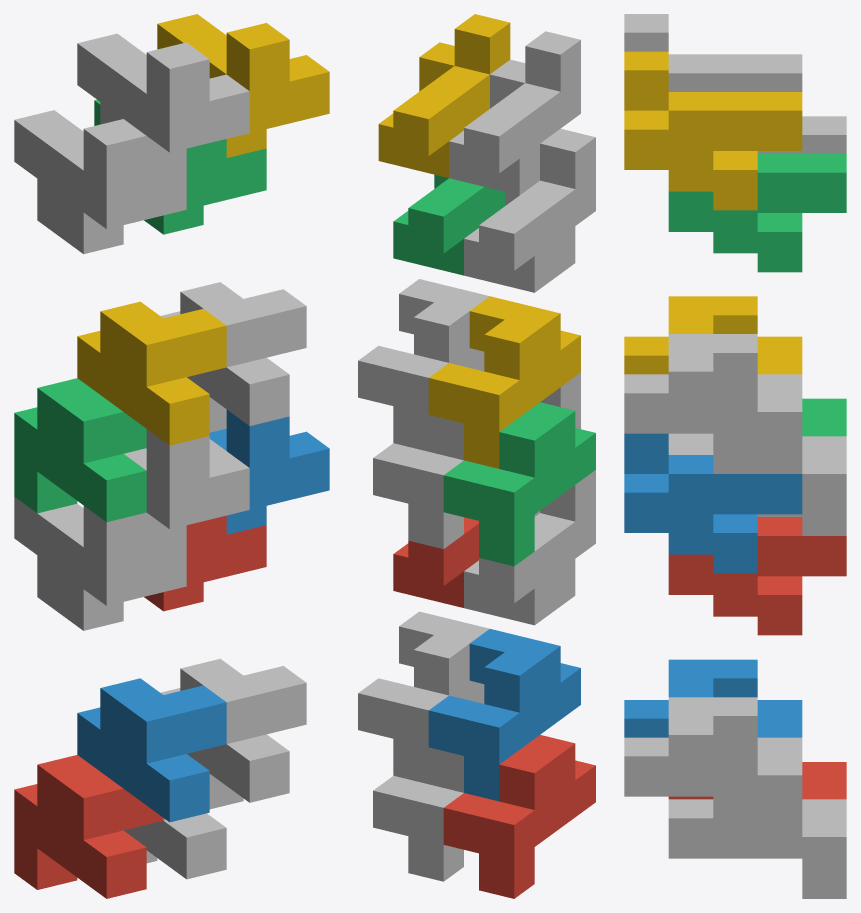
Rendered from tiling.obj.
3 views of the same model, side by side, from view 1: azimuth 30°, elevation 25°; view 2: azimuth 150°, elevation 25°; view 3: azimuth 270°, elevation 25° (orthographic). The views are drawn at different scales.
Visible parts, largest first — view 1: copy_2_domain_3, copy_1_domain_1, copy_1_domain_2, copy_1_domain_4, copy_1_domain_3, copy_2_domain_4, copy_2_domain_1, copy_1_domain_8, copy_1_domain_6, copy_2_domain_8, copy_2_domain_2, copy_2_domain_6 (+4 smaller); view 2: copy_1_domain_2, copy_1_domain_4, copy_1_domain_3, copy_1_domain_1, copy_2_domain_4, copy_2_domain_3, copy_2_domain_8, copy_1_domain_6, copy_1_domain_8, copy_2_domain_1, copy_1_domain_5, copy_1_domain_7 (+3 smaller); view 3: copy_2_domain_8, copy_1_domain_8, copy_1_domain_6, copy_2_domain_6, copy_2_domain_7, copy_2_domain_5, copy_1_domain_5, copy_1_domain_7, copy_1_domain_2, copy_1_domain_4, copy_2_domain_4, copy_1_domain_1 (+2 smaller).
Part boxes in pixels (x1=…): copy_2_domain_3: x1=14, y1=110, x2=186, y2=254; copy_1_domain_1: x1=14, y1=755, x2=163, y2=898; copy_1_domain_2: x1=77, y1=678, x2=226, y2=822; copy_1_domain_4: x1=77, y1=301, x2=226, y2=445; copy_1_domain_3: x1=14, y1=378, x2=146, y2=522; copy_2_domain_4: x1=77, y1=33, x2=249, y2=177; copy_2_domain_1: x1=14, y1=497, x2=186, y2=630; copy_1_domain_8: x1=160, y1=282, x2=306, y2=425; copy_1_domain_6: x1=160, y1=658, x2=306, y2=802; copy_2_domain_8: x1=157, y1=14, x2=329, y2=157; copy_2_domain_2: x1=124, y1=429, x2=249, y2=554; copy_2_domain_6: x1=209, y1=409, x2=329, y2=534; copy_1_domain_2: x1=428, y1=629, x2=580, y2=801; copy_1_domain_4: x1=428, y1=296, x2=580, y2=468; copy_1_domain_3: x1=443, y1=402, x2=595, y2=566; copy_1_domain_1: x1=443, y1=735, x2=595, y2=898; copy_2_domain_4: x1=449, y1=31, x2=580, y2=195; copy_2_domain_3: x1=464, y1=128, x2=595, y2=292; copy_2_domain_8: x1=378, y1=14, x2=510, y2=177; copy_1_domain_6: x1=358, y1=611, x2=489, y2=784; copy_1_domain_8: x1=358, y1=279, x2=489, y2=451; copy_2_domain_1: x1=464, y1=470, x2=595, y2=625; copy_1_domain_5: x1=373, y1=747, x2=463, y2=881; copy_1_domain_7: x1=373, y1=415, x2=463, y2=548; copy_2_domain_8: x1=624, y1=51, x2=802, y2=210; copy_1_domain_8: x1=624, y1=334, x2=802, y2=473; copy_1_domain_6: x1=624, y1=697, x2=802, y2=836; copy_2_domain_6: x1=624, y1=433, x2=802, y2=573; copy_2_domain_7: x1=668, y1=154, x2=846, y2=272; copy_2_domain_5: x1=668, y1=517, x2=846, y2=635; copy_1_domain_5: x1=668, y1=796, x2=846, y2=898; copy_1_domain_7: x1=668, y1=433, x2=846, y2=535; copy_1_domain_2: x1=624, y1=659, x2=802, y2=737; copy_1_domain_4: x1=624, y1=296, x2=802, y2=374; copy_2_domain_4: x1=624, y1=14, x2=802, y2=91; copy_1_domain_1: x1=668, y1=762, x2=846, y2=799.
Bounding box in the file's own units: 5 × 21 × 5.
